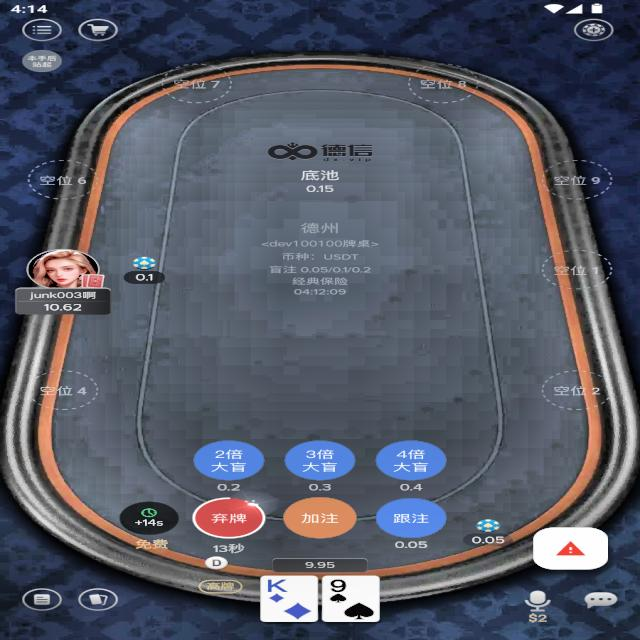9s: (327, 577, 348, 593)
Kf: (265, 576, 289, 594)
